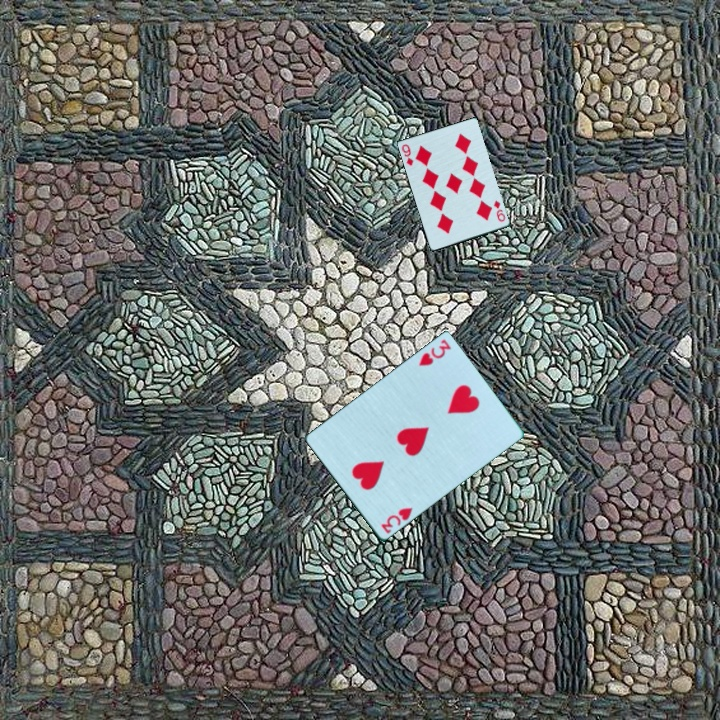3h: (415, 336, 454, 369), (377, 504, 415, 537)
9d: (398, 141, 417, 169), (490, 197, 508, 225)
